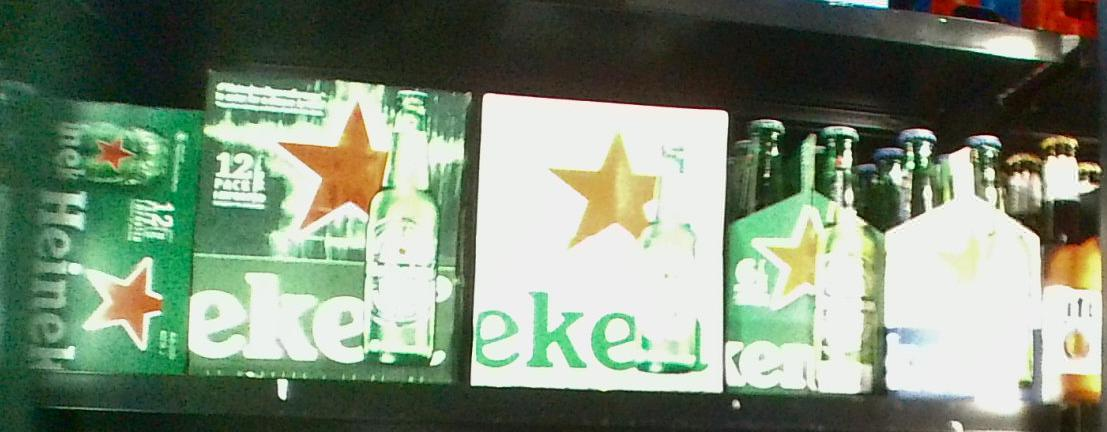bottle: (207, 72, 465, 384), (480, 93, 721, 391), (3, 96, 191, 375), (880, 125, 1036, 401), (733, 115, 880, 397), (1039, 137, 1100, 404)
